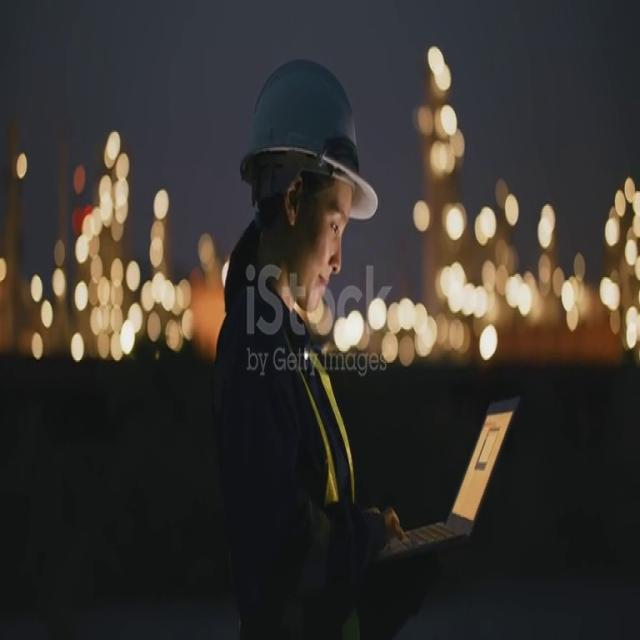capacete: (233, 43, 386, 234)
